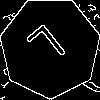L: (25, 22, 74, 75)
